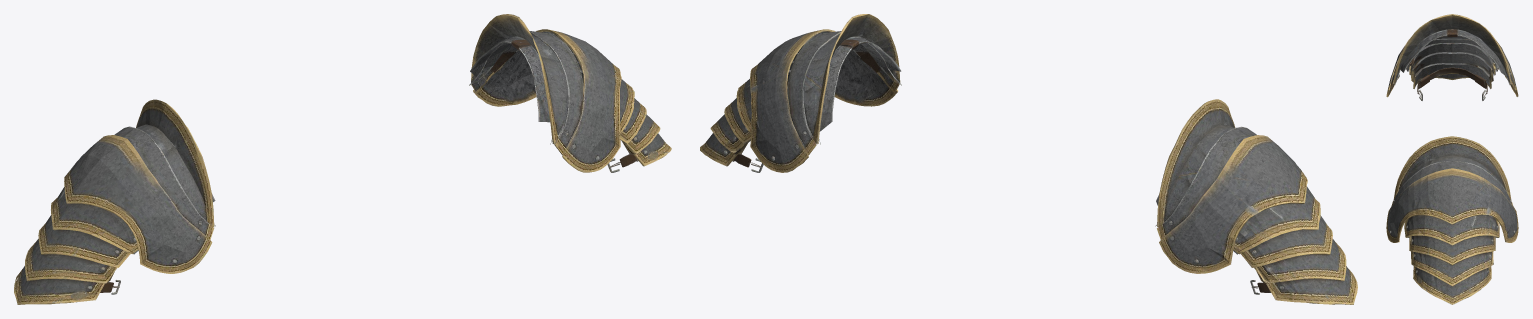
File: ewm_pauldrons.glb
3 views of the same model, side by side, from view 1: azimuth 30°, elevation 25°; view 2: azimuth 150°, elevation 25°; view 3: azimuth 270°, elevation 25° (orthographic). The views are drawn at different scales.
Visible parts, largest first — view 1: ewm_pauldrons; view 2: ewm_pauldrons; view 3: ewm_pauldrons.
Boxes of the visible parts, box(x1,y1,x2,y2) form: ewm_pauldrons: box(14, 14, 671, 304); ewm_pauldrons: box(700, 14, 1357, 304); ewm_pauldrons: box(1386, 14, 1518, 304).
Bounding box in the file's own units: 0.7796 × 0.1898 × 0.1934.
Materials: 1 (1 with a texture image).
